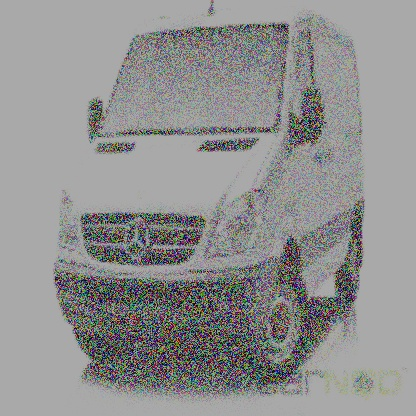Vehicle: (55, 1, 365, 386)
